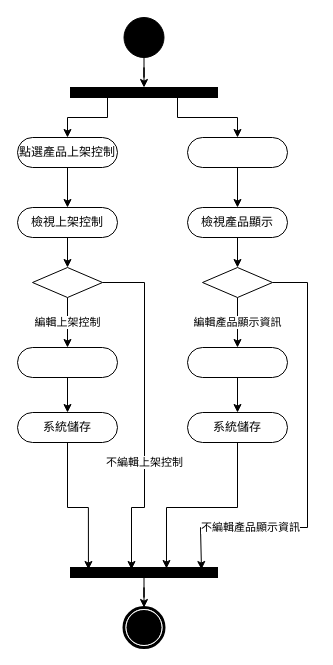
This 333x665 diagram has some shape labels left out. The centre of each missing label's shape, as x and y in pixels:
"輸入上架控制資訊" belongs at point 67,362.
"輸入產品顯示資訊" belongs at point 237,362.
"點選產品顯示管理" belongs at point 237,152.
